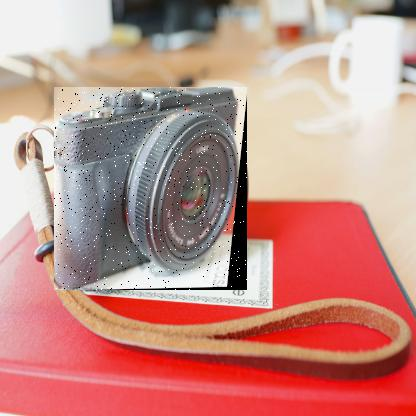Camera: (56, 88, 250, 292)
